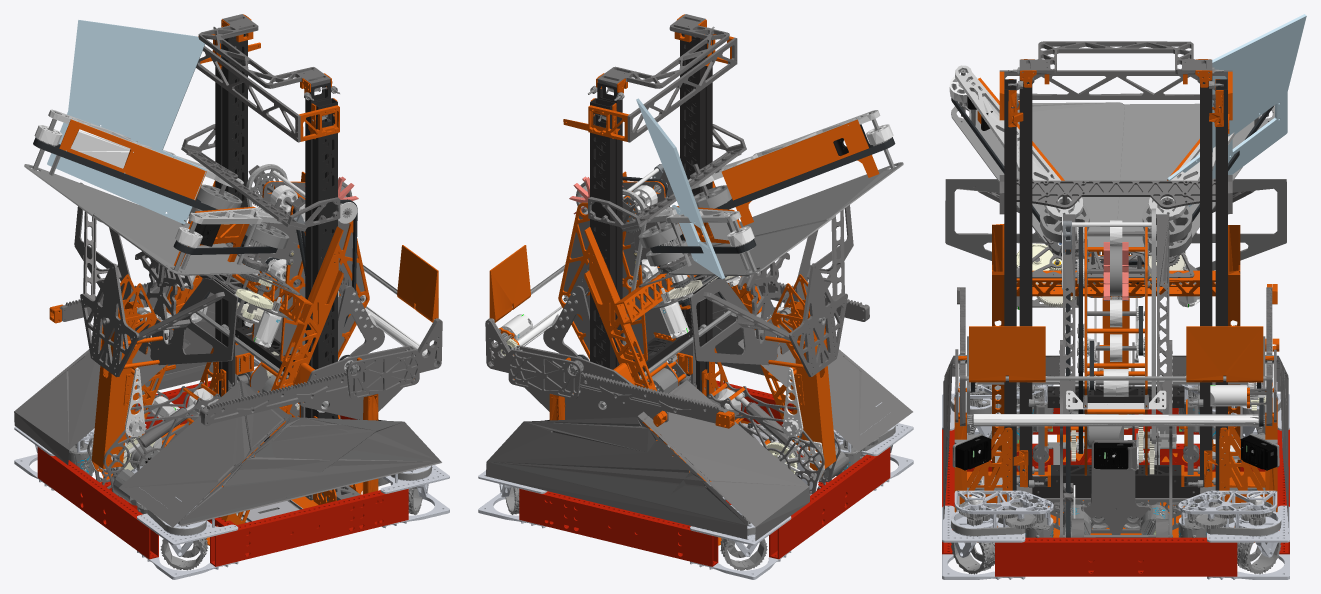
File: redundancy-190.glb
3 views of the same model, side by side, from view 1: azimuth 30°, elevation 25°; view 2: azimuth 150°, elevation 25°; view 3: azimuth 270°, elevation 25° (orthographic). The views are drawn at different scales.
Visible parts, largest first — view 1: frame, climber, intake, restored-tube:Tube 3"x1"x19.5" (×2), effector, restored-tube:Base Stage 2x1 (×2), restored-tube:Stage 1 2x1 (×2), elevator-stage, algae, carriage, restored-tube:Carriage Top 2x1; view 2: frame, climber, intake, restored-tube:Tube 3"x1"x19.5" (×3), effector, restored-tube:Base Stage 2x1 (×2), restored-tube:Stage 1 2x1 (×2), elevator-stage, algae, restored-tube:Carriage Top 2x1, carriage; view 3: frame, intake, effector, restored-tube:Tube 3"x1"x19.5" (×3), algae, restored-tube:Stage 1 2x1 (×2), restored-tube:Base Stage 2x1 (×2), climber, elevator-stage, carriage, restored-tube:Carriage Bottom 2x1, restored-tube:Stage 1 Base 2x1 (+2 smaller).
Boxes of the visible parts, bbox=[...] form: frame: bbox=[14, 20, 449, 579]; climber: bbox=[74, 182, 238, 471]; intake: bbox=[49, 171, 442, 426]; restored-tube:Tube 3"x1"x19.5" (×2): bbox=[37, 447, 408, 566]; effector: bbox=[246, 164, 369, 422]; restored-tube:Base Stage 2x1 (×2): bbox=[215, 34, 337, 418]; restored-tube:Stage 1 2x1 (×2): bbox=[222, 33, 330, 417]; elevator-stage: bbox=[198, 14, 332, 396]; algae: bbox=[248, 165, 384, 418]; carriage: bbox=[221, 324, 305, 417]; restored-tube:Carriage Top 2x1: bbox=[235, 325, 294, 375]; frame: bbox=[478, 26, 913, 579]; climber: bbox=[689, 205, 853, 475]; intake: bbox=[485, 171, 869, 428]; restored-tube:Tube 3"x1"x19.5" (×3): bbox=[519, 380, 890, 566]; effector: bbox=[558, 176, 686, 425]; restored-tube:Base Stage 2x1 (×2): bbox=[590, 34, 712, 396]; restored-tube:Stage 1 2x1 (×2): bbox=[597, 33, 705, 392]; elevator-stage: bbox=[596, 14, 729, 396]; algae: bbox=[543, 164, 673, 356]; restored-tube:Carriage Top 2x1: bbox=[632, 328, 692, 375]; carriage: bbox=[674, 324, 706, 386]; frame: bbox=[942, 14, 1306, 579]; intake: bbox=[955, 284, 1279, 432]; effector: bbox=[1061, 208, 1169, 475]; restored-tube:Tube 3"x1"x19.5" (×3): bbox=[942, 429, 1289, 576]; algae: bbox=[1059, 214, 1172, 537]; restored-tube:Stage 1 2x1 (×2): bbox=[1019, 70, 1212, 486]; restored-tube:Base Stage 2x1 (×2): bbox=[1004, 79, 1227, 490]; climber: bbox=[945, 179, 1286, 368]; elevator-stage: bbox=[1013, 41, 1217, 498]; carriage: bbox=[1028, 385, 1203, 487]; restored-tube:Carriage Bottom 2x1: bbox=[1051, 465, 1181, 486]; restored-tube:Stage 1 Base 2x1: bbox=[1032, 476, 1199, 497].
Size of the model in its own units: 0.7119 by 1.06 by 0.7455.
